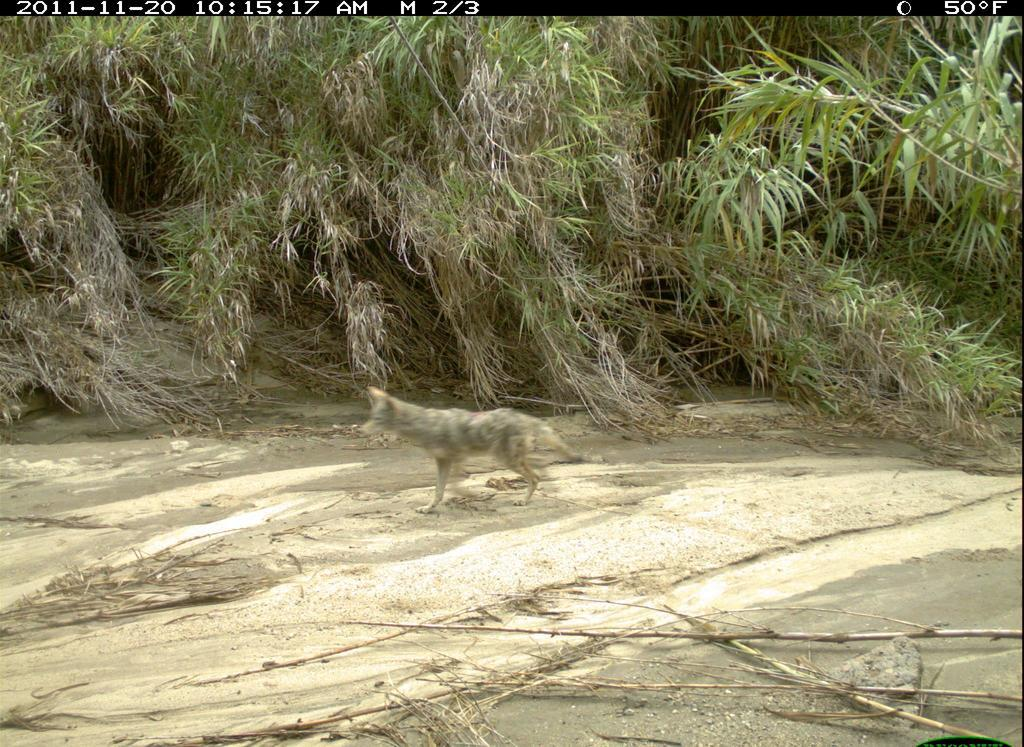coyote: (350, 369, 596, 524)
